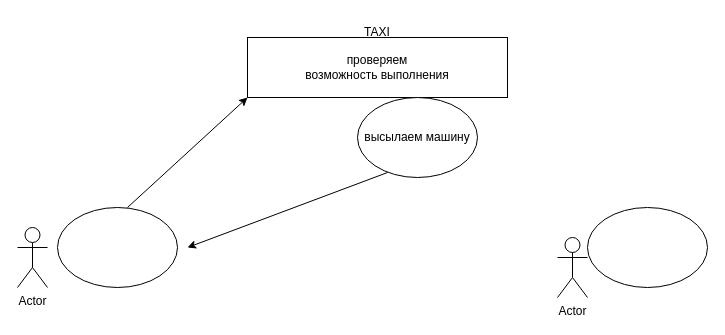
The diagram is 725 pixels wide and 335 high, and some of its shapes have lost their labels. Here are the shapes that lost their labels. From the top down, the centre of each, then its label:
(117,247): переместиться в другую точку пространства
(647,247): расчет, освобождаю машину
